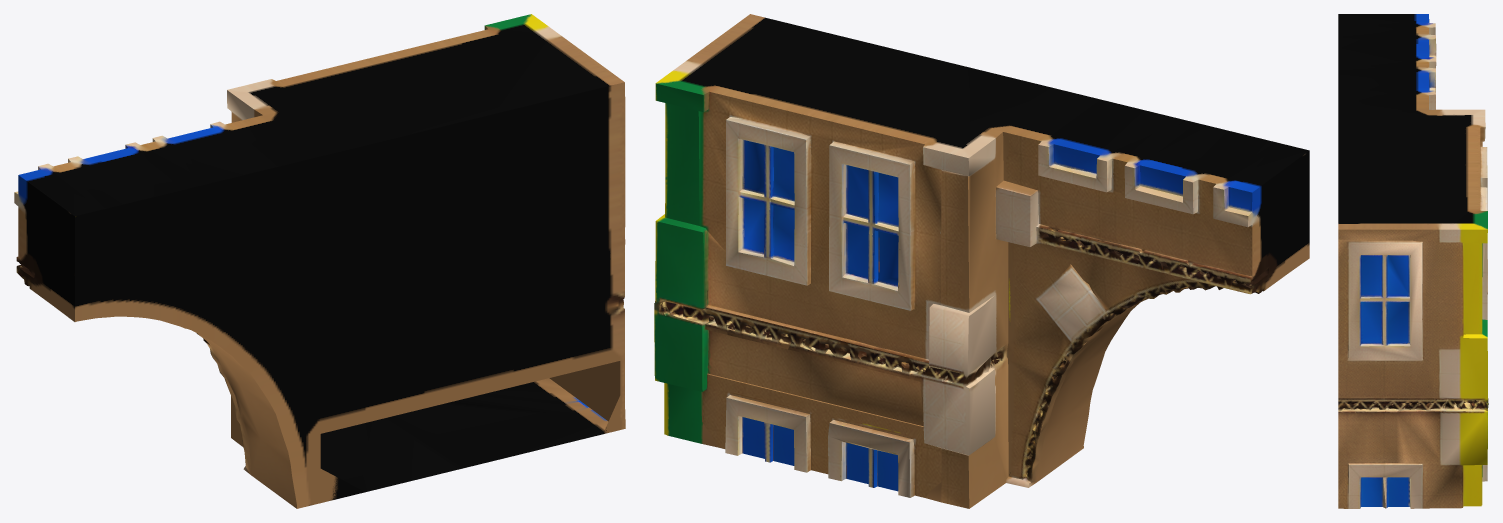
Rendered from 8-upper-walls-back-right.fbx.
The picture shows the model from 3 angles, left to right: view 1: azimuth 30°, elevation 25°; view 2: azimuth 150°, elevation 25°; view 3: azimuth 270°, elevation 25°; orthographic projection. The views are drawn at different scales.
Visible parts, largest first — view 1: upper-walls-back-right; view 2: upper-walls-back-right; view 3: upper-walls-back-right.
Part boxes in pixels (left/top/right/bottom): upper-walls-back-right: left=14, top=14, right=625, bottom=508; upper-walls-back-right: left=654, top=14, right=1309, bottom=508; upper-walls-back-right: left=1338, top=14, right=1488, bottom=508.
Bounding box in the file's own units: 10489 × 6289 × 3081.
Materials: 1 (1 with a texture image).
